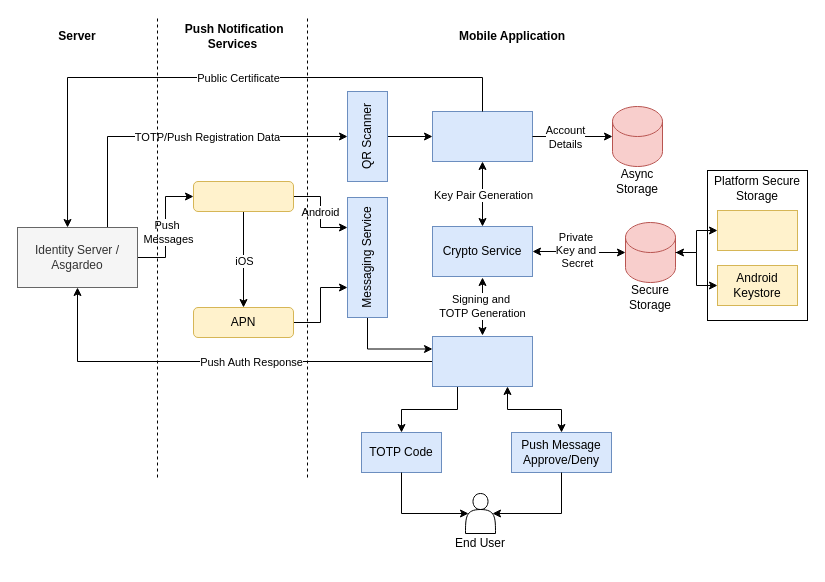
This 825x582 diagram has some shape labels left out. The centre of each missing label's shape, as x and y in pixels:
Authentication Handler: pixel 482 361
Device Registration Handler: pixel 482 136
FCM: pixel 243 196
iOS Keychain: pixel 757 230
